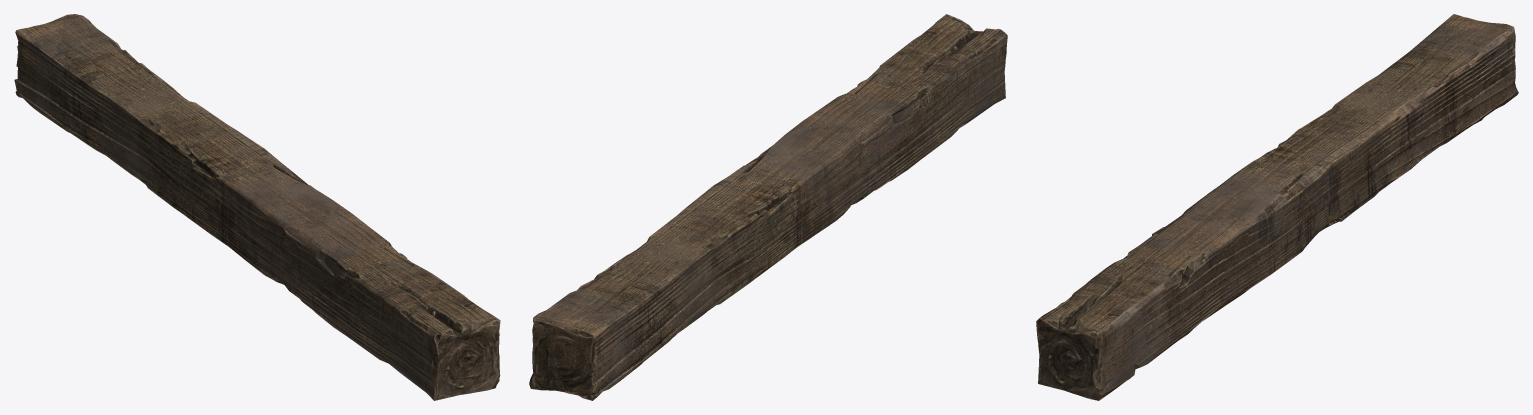
The model's file is SM_WoodBeam02.glb.
The picture shows the model from 3 angles, left to right: view 1: azimuth 30°, elevation 25°; view 2: azimuth 150°, elevation 25°; view 3: azimuth 330°, elevation 25°; orthographic projection.
Parts seen in each view (by area): view 1: SM_WoodBeam02; view 2: SM_WoodBeam02; view 3: SM_WoodBeam02.
Part boxes in pixels (x1,y1,x2,y2): SM_WoodBeam02: (14,14,500,400); SM_WoodBeam02: (529,14,1007,400); SM_WoodBeam02: (1036,14,1518,400).
Bounding box in the file's own units: 0.3075 × 0.3033 × 3.27.
1 material, 1 textured.
